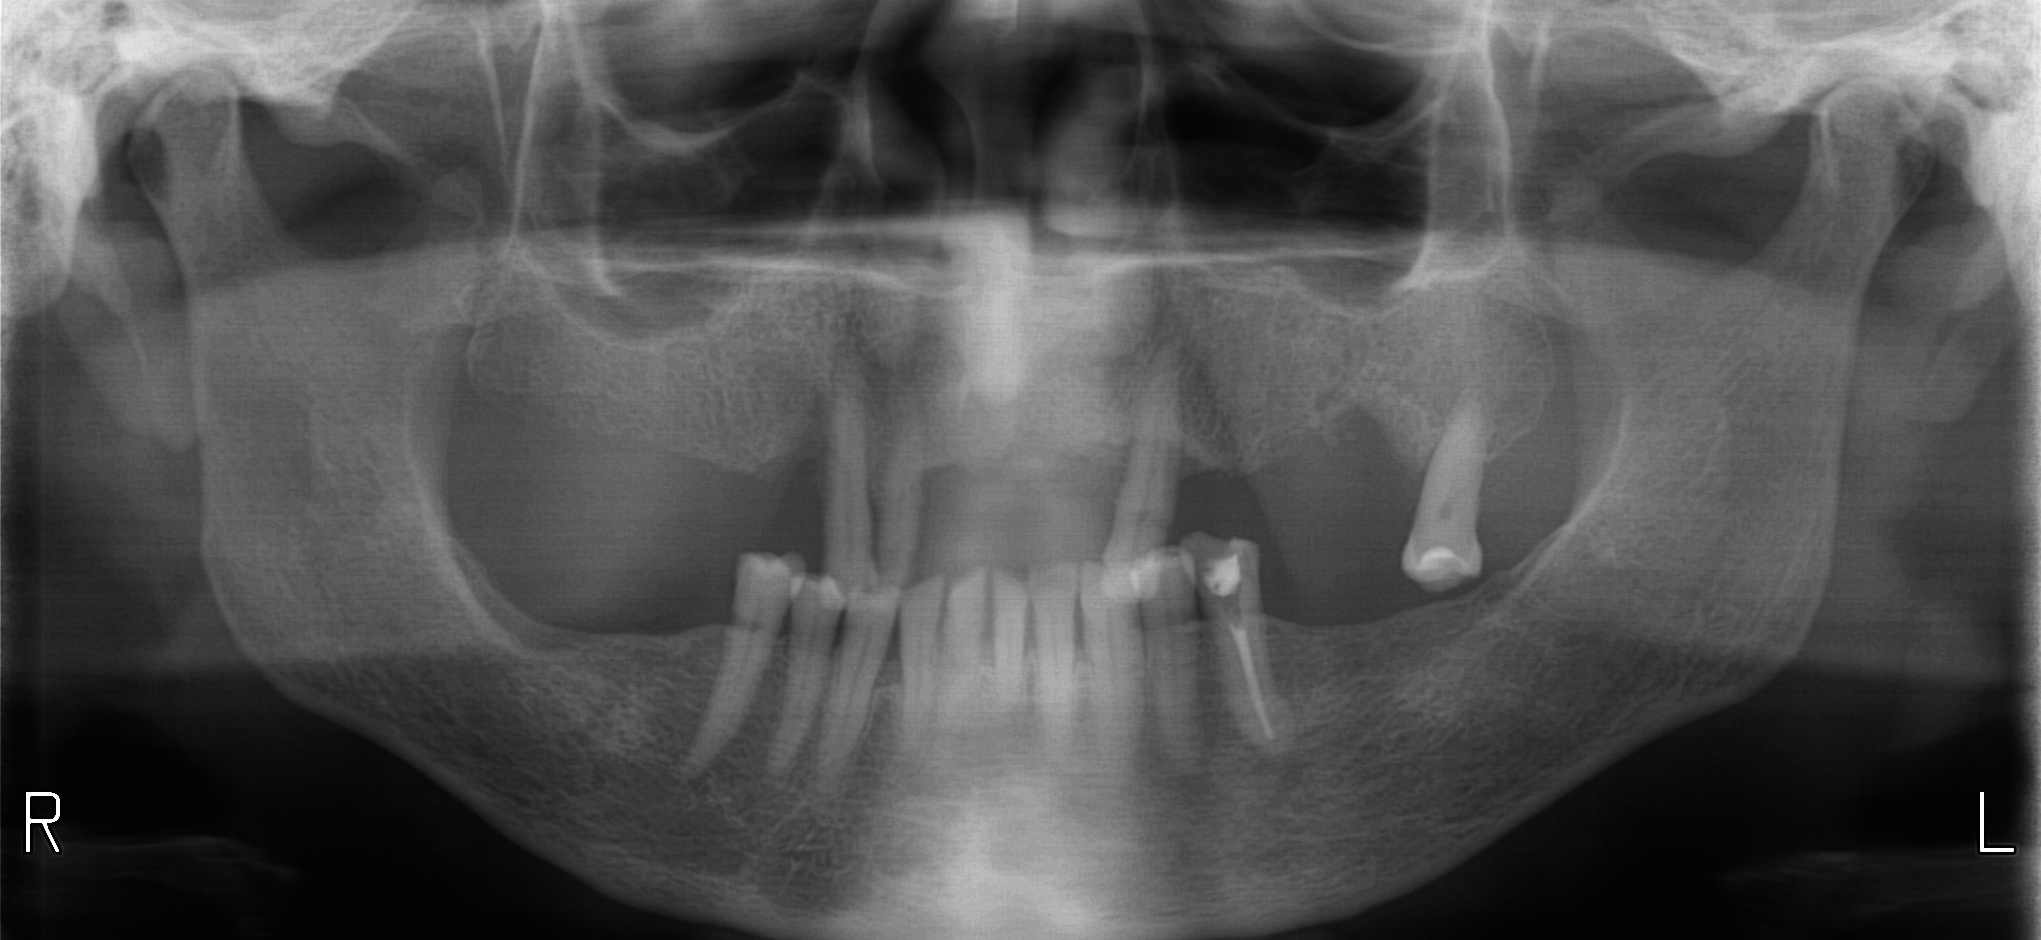cavity: (732, 618, 758, 630), (1131, 612, 1136, 624), (1158, 519, 1168, 525)
